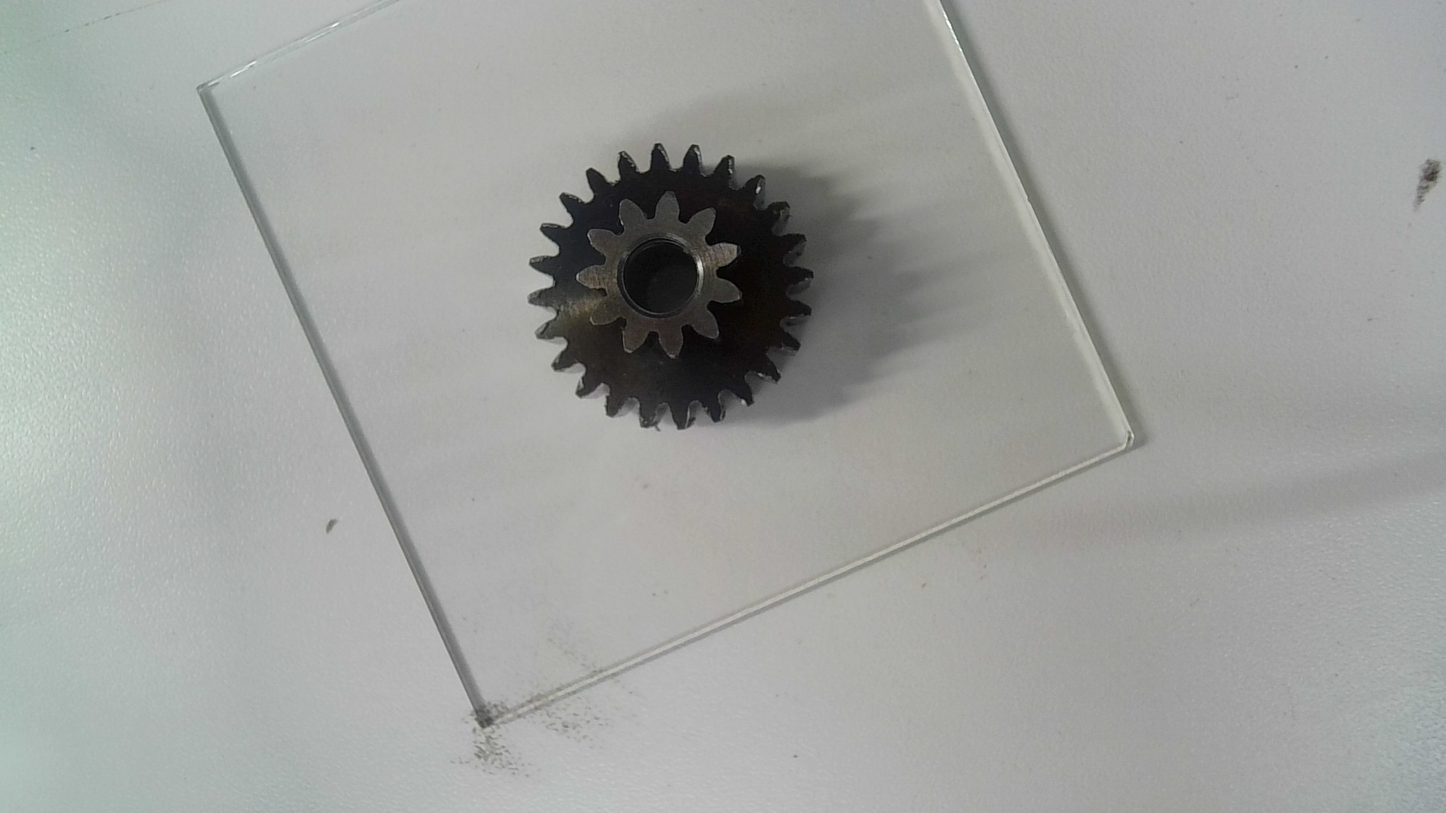gear: (526, 142, 812, 429)
